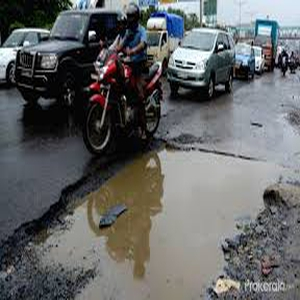pothole: (2, 140, 300, 298)
